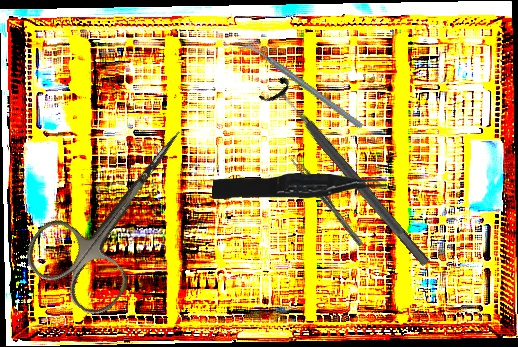Chopper: (237, 11, 365, 161)
Fixation Ring: (257, 73, 441, 276)
Iris Scissors: (16, 100, 223, 324)
Tissue Forceps: (289, 154, 364, 249), (212, 171, 387, 203)
